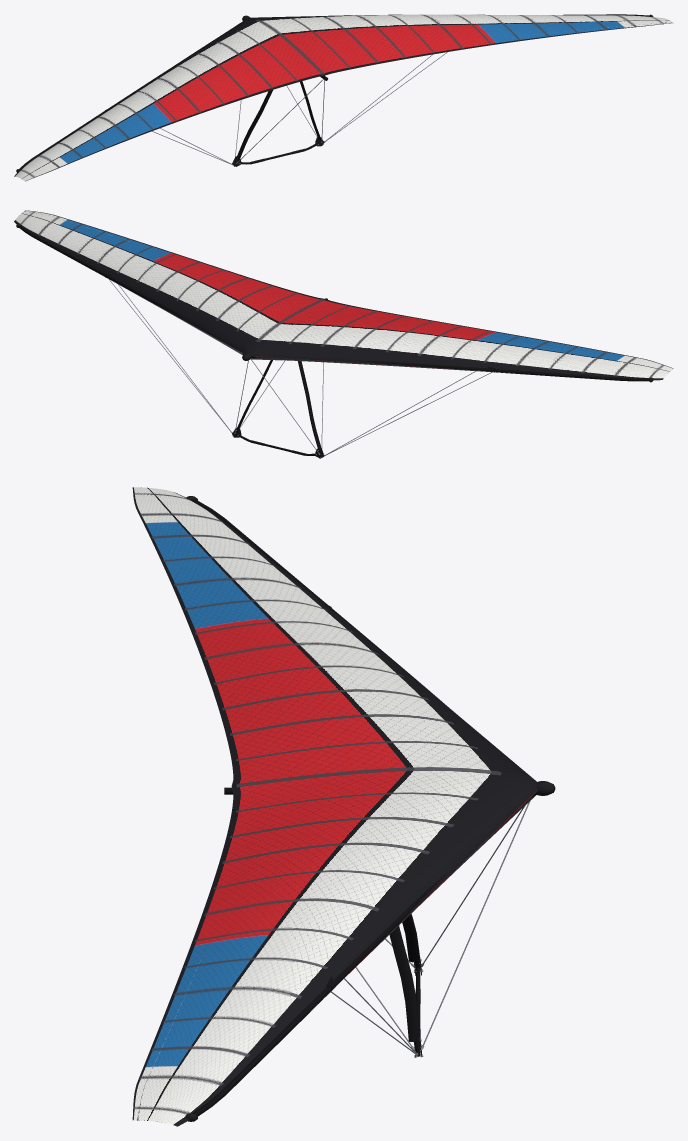
The model's file is glider_aeros_combat_c.glb.
The picture shows the model from 3 angles, top to bottom: view 1: azimuth 30°, elevation 25°; view 2: azimuth 150°, elevation 25°; view 3: azimuth 270°, elevation 25°; orthographic projection. The views are drawn at different scales.
Parts seen in each view (by area): view 1: Sail, ControlFrame, Frame; view 2: Sail, ControlFrame, Frame; view 3: Sail, ControlFrame, Frame.
Boxes of the visible parts, x1,y1,x2,y2 form: Sail: (14, 14, 673, 181); ControlFrame: (152, 52, 447, 166); Frame: (16, 14, 653, 172); Sail: (14, 210, 673, 380); ControlFrame: (109, 279, 491, 458); Frame: (16, 223, 653, 382); Sail: (132, 487, 537, 1126); ControlFrame: (331, 801, 530, 1057); Frame: (185, 496, 555, 1121).
Bounding box in the file's own units: 10.3 × 1.91 × 2.91.
Materials: 8 (1 with a texture image).
